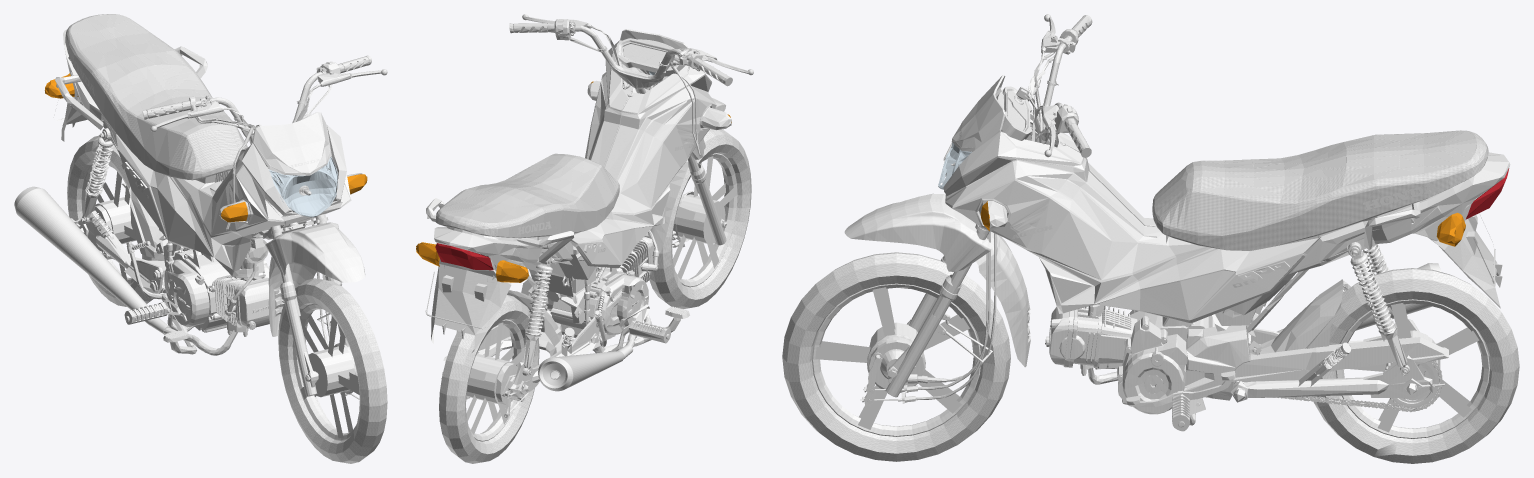
The model's file is pop110.glb.
3 views of the same model, side by side, from view 1: azimuth 30°, elevation 25°; view 2: azimuth 150°, elevation 25°; view 3: azimuth 270°, elevation 25° (orthographic). The views are drawn at different scales.
Parts seen in each view (by area): view 1: chassis, steer, FrontWheel_Rubber, rsusp, FrontWheel_WheelAlloy, RearWheel_Rubber, fsusp, RearWheel_WheelAlloy; view 2: chassis, RearWheel_Rubber, FrontWheel_Rubber, steer, rsusp, FrontWheel_WheelAlloy, RearWheel_WheelAlloy, fsusp; view 3: chassis, FrontWheel_Rubber, rsusp, steer, RearWheel_Rubber, FrontWheel_WheelAlloy, fsusp, RearWheel_WheelAlloy.
Part boxes in pixels (<box>): chassis: <box>14,14,367,355</box>; steer: <box>142,55,387,336</box>; FrontWheel_Rubber: <box>278,278,387,463</box>; rsusp: <box>71,128,191,293</box>; FrontWheel_WheelAlloy: <box>292,303,359,440</box>; RearWheel_Rubber: <box>67,135,164,306</box>; fsusp: <box>280,217,359,399</box>; RearWheel_WheelAlloy: <box>81,164,136,284</box>; chassis: <box>416,29,731,391</box>; RearWheel_Rubber: <box>439,295,539,463</box>; FrontWheel_Rubber: <box>649,129,751,308</box>; steer: <box>509,14,753,253</box>; rsusp: <box>441,256,598,417</box>; FrontWheel_WheelAlloy: <box>673,153,737,287</box>; RearWheel_WheelAlloy: <box>466,319,524,441</box>; fsusp: <box>672,163,726,247</box>; chassis: <box>938,75,1510,431</box>; FrontWheel_Rubber: <box>782,252,1010,461</box>; rsusp: <box>1230,242,1448,412</box>; steer: <box>844,14,1092,367</box>; RearWheel_Rubber: <box>1313,268,1519,463</box>; FrontWheel_WheelAlloy: <box>812,283,980,436</box>; fsusp: <box>860,231,996,406</box>; RearWheel_WheelAlloy: <box>1335,299,1489,438</box>.
Bounding box in the file's own units: 0.7888 × 1.04 × 1.77.
11 materials, 8 textured.
